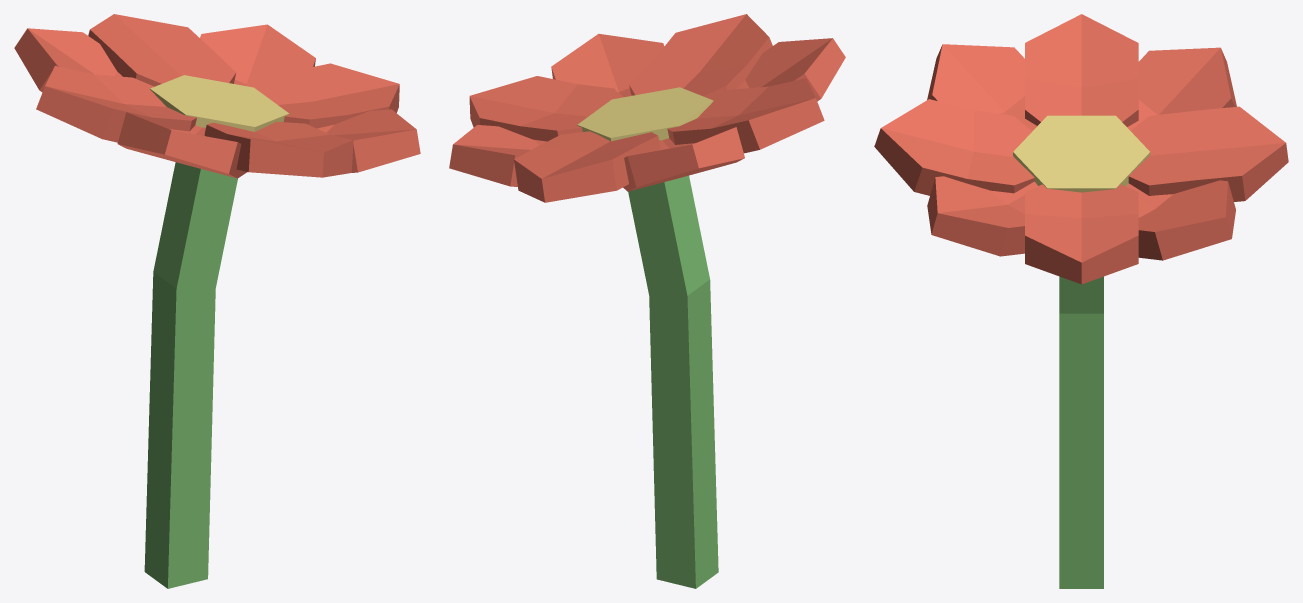
The model's file is flower.gltf.
The picture shows the model from 3 angles, left to right: view 1: azimuth 30°, elevation 25°; view 2: azimuth 150°, elevation 25°; view 3: azimuth 270°, elevation 25°; orthographic projection. The views are drawn at different scales.
Visible parts, largest first — view 1: Cube.001; view 2: Cube.001; view 3: Cube.001.
Boxes of the visible parts, <box> form: Cube.001: <box>14,14,420,588</box>; Cube.001: <box>449,14,845,588</box>; Cube.001: <box>874,14,1288,588</box>.
Size of the model in its own units: 1.9 by 2.6 by 1.94.
